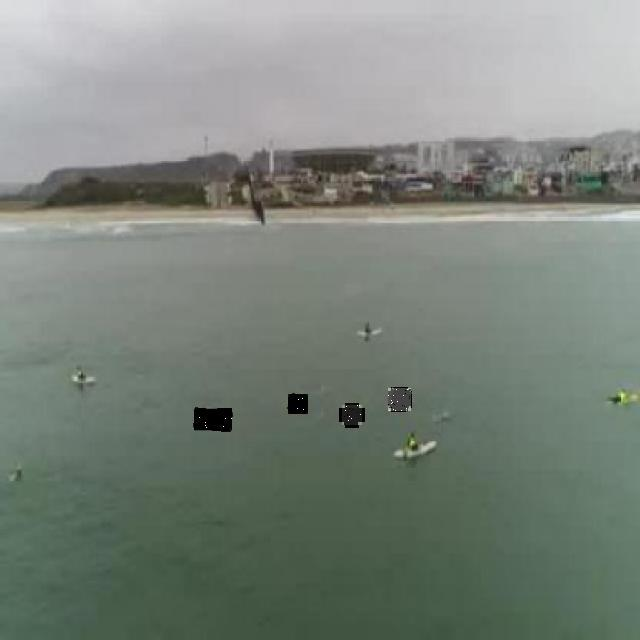swimming: (194, 408, 232, 431), (388, 388, 411, 411), (288, 394, 308, 414), (342, 405, 362, 425)
